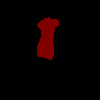vestito: (36, 16, 58, 60)
